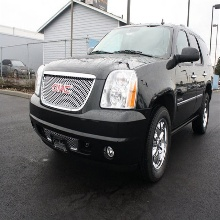no damage: (29, 23, 213, 185)
